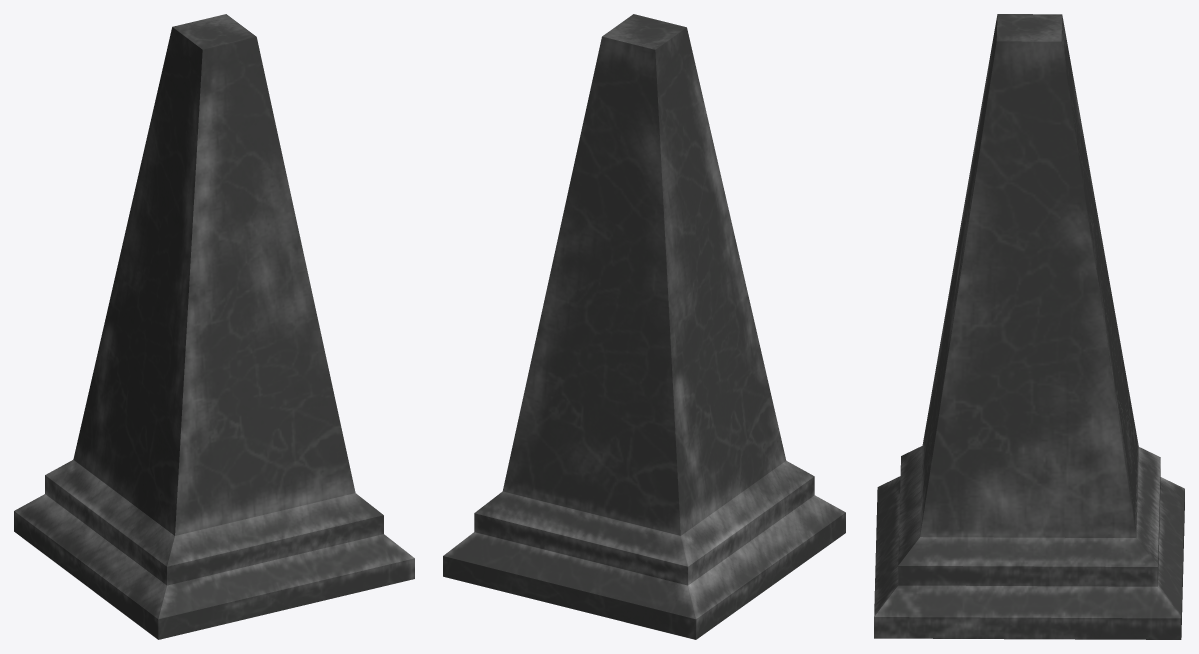
The model's file is lapida_3_UVM.fbx.
The picture shows the model from 3 angles, left to right: view 1: azimuth 30°, elevation 25°; view 2: azimuth 150°, elevation 25°; view 3: azimuth 270°, elevation 25°; orthographic projection. The views are drawn at different scales.
Parts seen in each view (by area): view 1: lapida_3; view 2: lapida_3; view 3: lapida_3.
Boxes of the visible parts, bbox=[...] form: lapida_3: bbox=[14, 14, 414, 639]; lapida_3: bbox=[443, 14, 845, 639]; lapida_3: bbox=[874, 14, 1184, 639].
Size of the model in its own units: 101 by 196 by 101.
